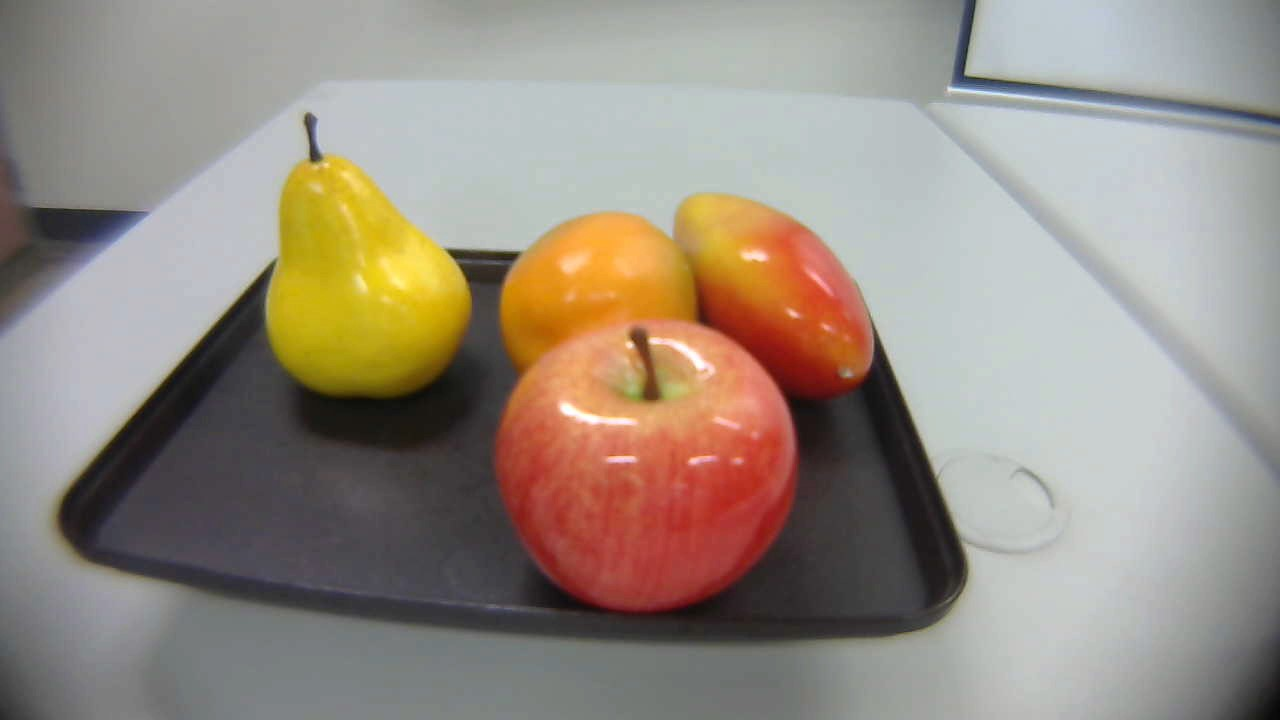papya: (495, 213, 705, 381)
red apple: (493, 311, 803, 621)
red mango: (658, 179, 885, 413)
yellow pear: (255, 108, 478, 399)
